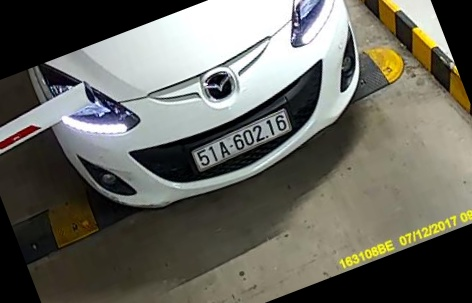plate: (182, 110, 298, 174)
